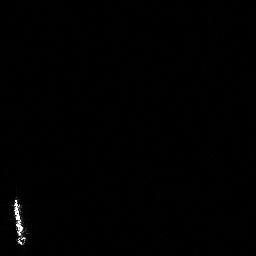ship: (9, 194, 32, 248)
